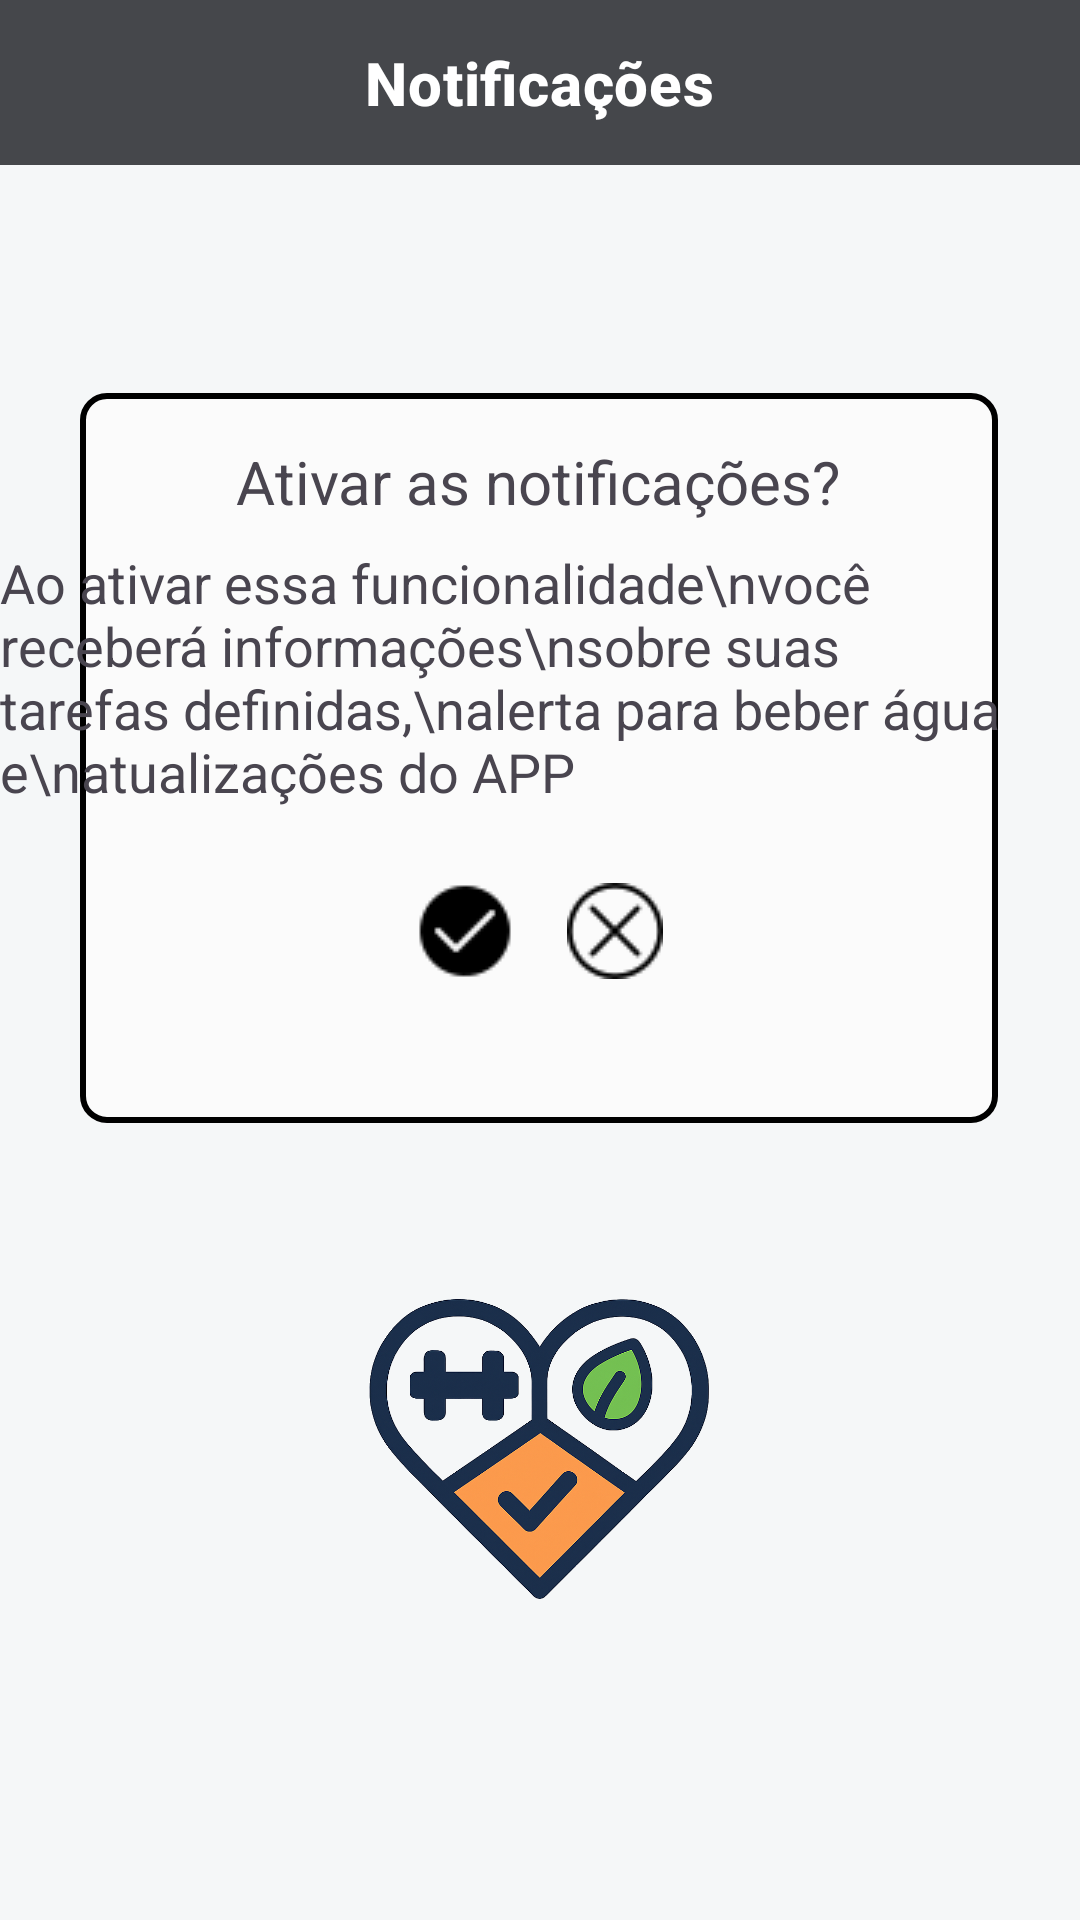

Screen size 1080 x 1920. Icon name, then its center in pixels as [x,y]:
sim: [465,931]
